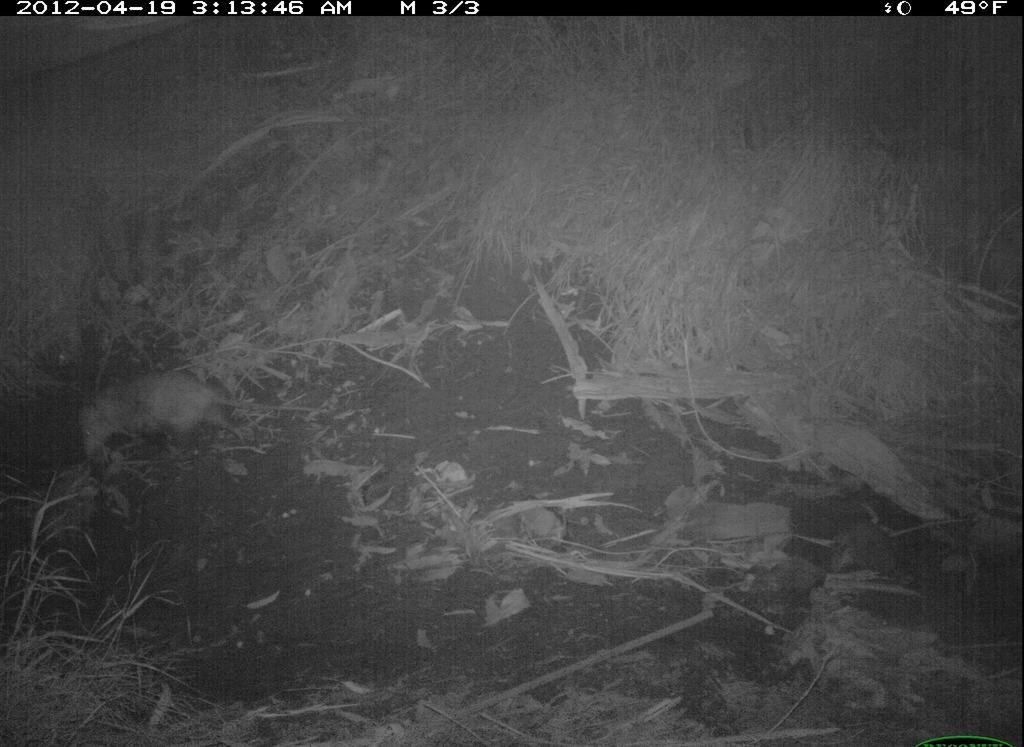opossum: (68, 365, 332, 459)
